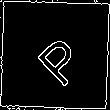P_NW: (24, 24, 86, 86)
